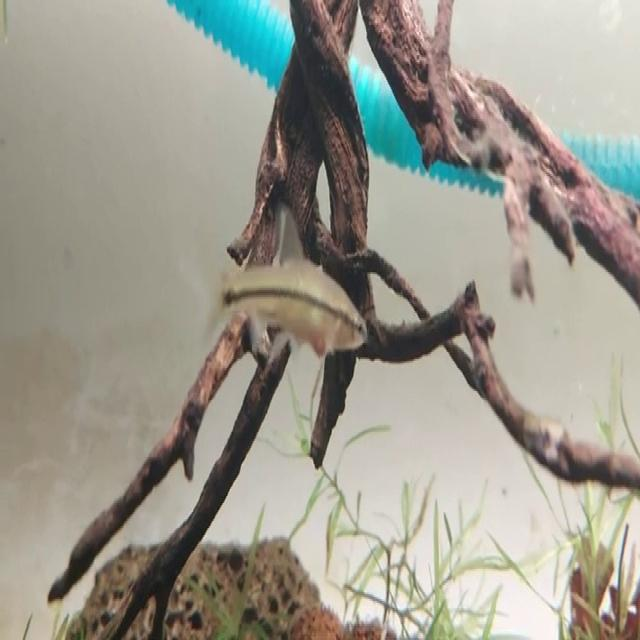Cakil Baligi: (187, 206, 371, 352)
